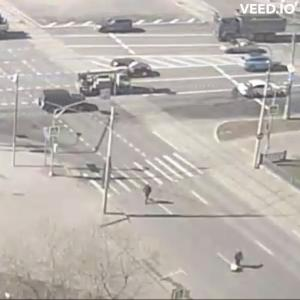car: (215, 14, 287, 40), (70, 69, 136, 96), (35, 89, 89, 116), (242, 81, 283, 101), (98, 18, 138, 35), (123, 63, 161, 80), (245, 53, 274, 74), (221, 39, 254, 55)
